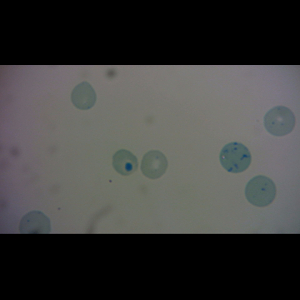aggregate reticulocyte: (219, 142, 252, 173)
erythrocyte: (112, 149, 140, 176)
punctate reticulocyte: (244, 174, 277, 208), (263, 105, 297, 137), (70, 81, 98, 111), (140, 149, 168, 179)
